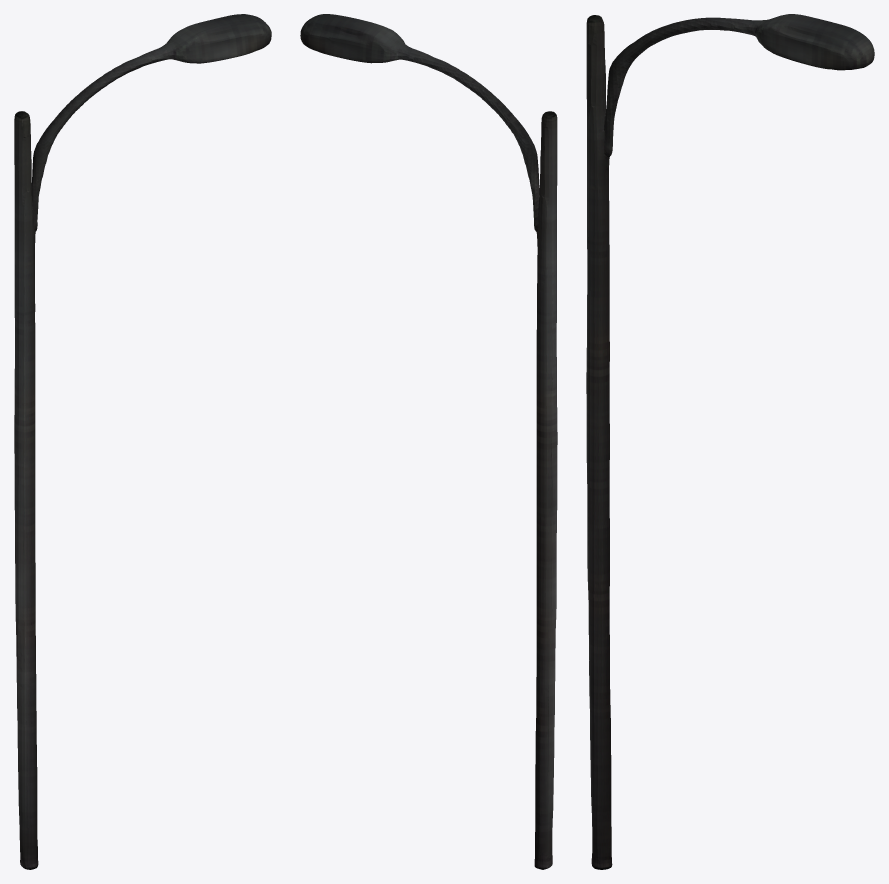
File: streetlight.glb
The picture shows the model from 3 angles, left to right: view 1: azimuth 30°, elevation 25°; view 2: azimuth 150°, elevation 25°; view 3: azimuth 330°, elevation 25°; orthographic projection. The views are drawn at different scales.
Visible parts, largest first — view 1: world; view 2: world; view 3: world.
Boxes of the visible parts, bbox=[...] form: world: bbox=[14, 14, 271, 869]; world: bbox=[300, 14, 557, 869]; world: bbox=[586, 14, 874, 869].
Bounding box in the file's own units: 0.33 × 0.9937 × 0.052.
1 material, 1 textured.
